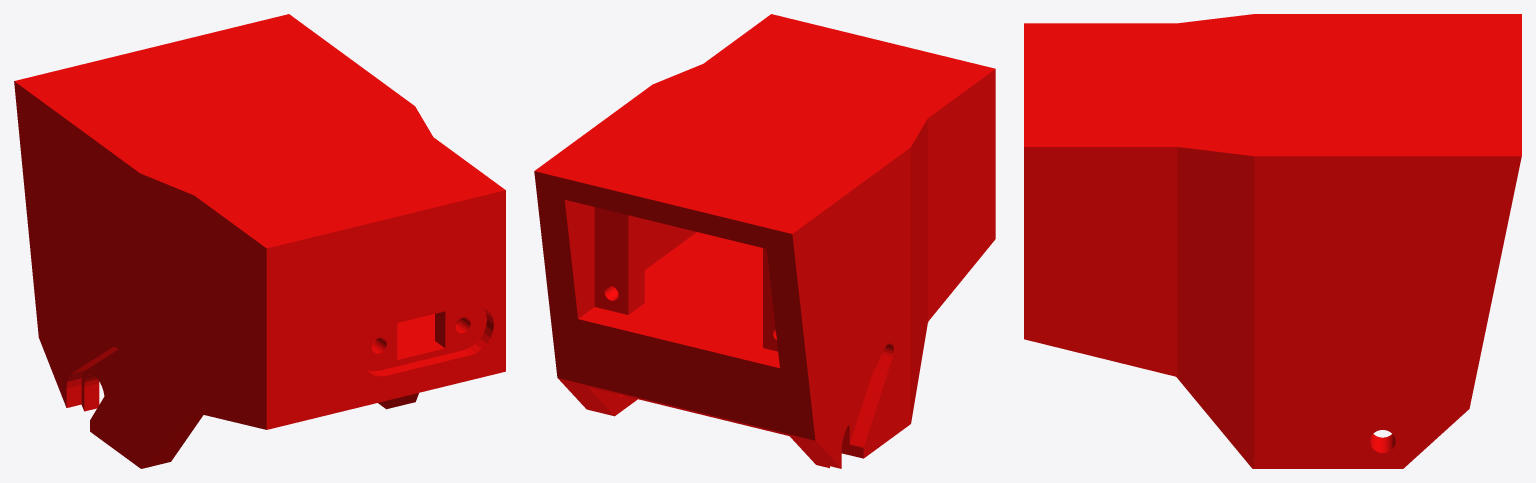
The model's file is head.dae.
3 views of the same model, side by side, from view 1: azimuth 30°, elevation 25°; view 2: azimuth 150°, elevation 25°; view 3: azimuth 270°, elevation 25° (orthographic). The views are drawn at different scales.
Parts seen in each view (by area): view 1: node0; view 2: node0; view 3: node0.
Boxes of the visible parts, bbox=[...] form: node0: bbox=[14, 14, 505, 468]; node0: bbox=[534, 14, 995, 468]; node0: bbox=[1024, 14, 1521, 468].
Bounding box in the file's own units: 46 × 68 × 47.14.
